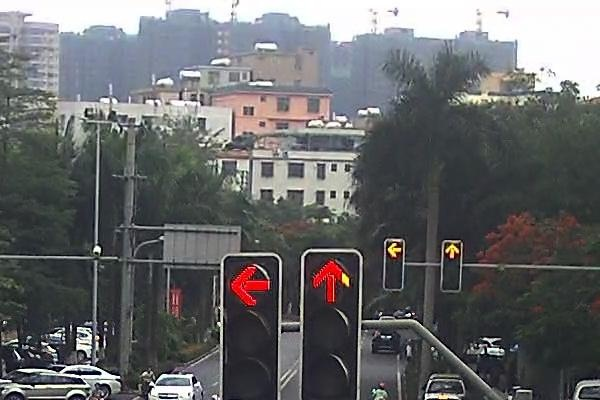redleft: (222, 254, 280, 305), (385, 240, 404, 260)
redstraight: (302, 252, 362, 306), (443, 242, 462, 261)
